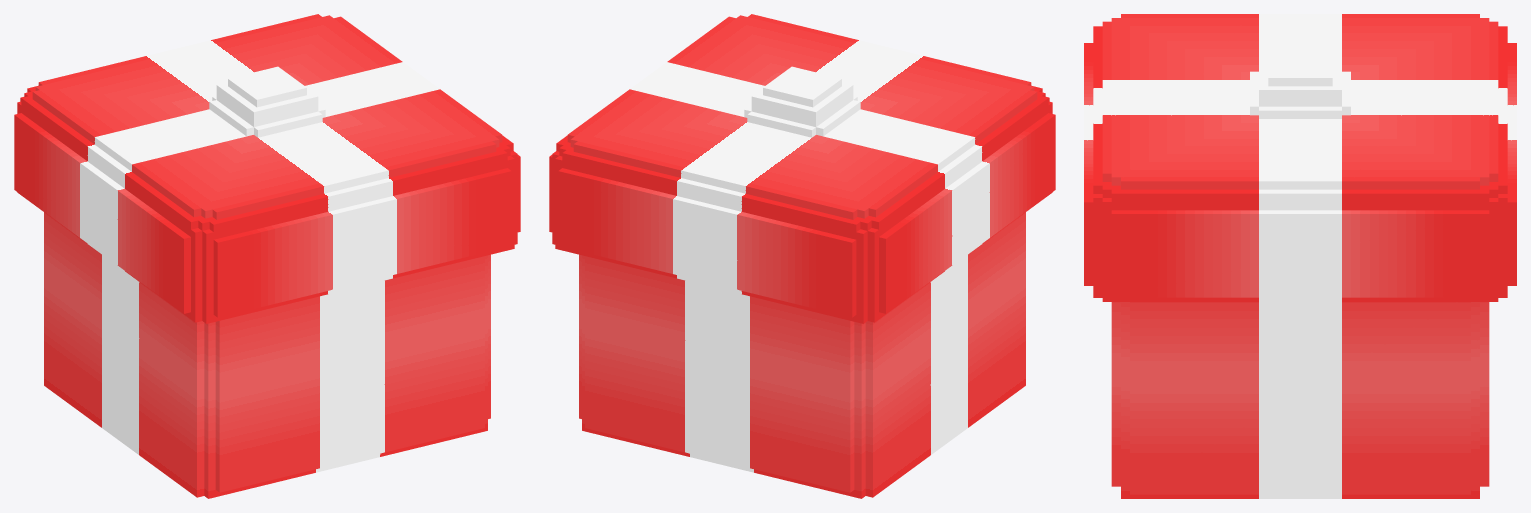
The model's file is 圣诞礼盒.gltf.
3 renders of one model, left to right at view 1: azimuth 30°, elevation 25°; view 2: azimuth 150°, elevation 25°; view 3: azimuth 270°, elevation 25°, orthographic. The views are drawn at different scales.
Parts seen in each view (by area): view 1: Object; view 2: Object; view 3: Object.
Boxes of the visible parts, <box> form: Object: <box>14,14,520,498</box>; Object: <box>549,14,1055,498</box>; Object: <box>1084,14,1516,498</box>.
Size of the model in its own units: 47 by 43 by 47.
1 material, 1 textured.
